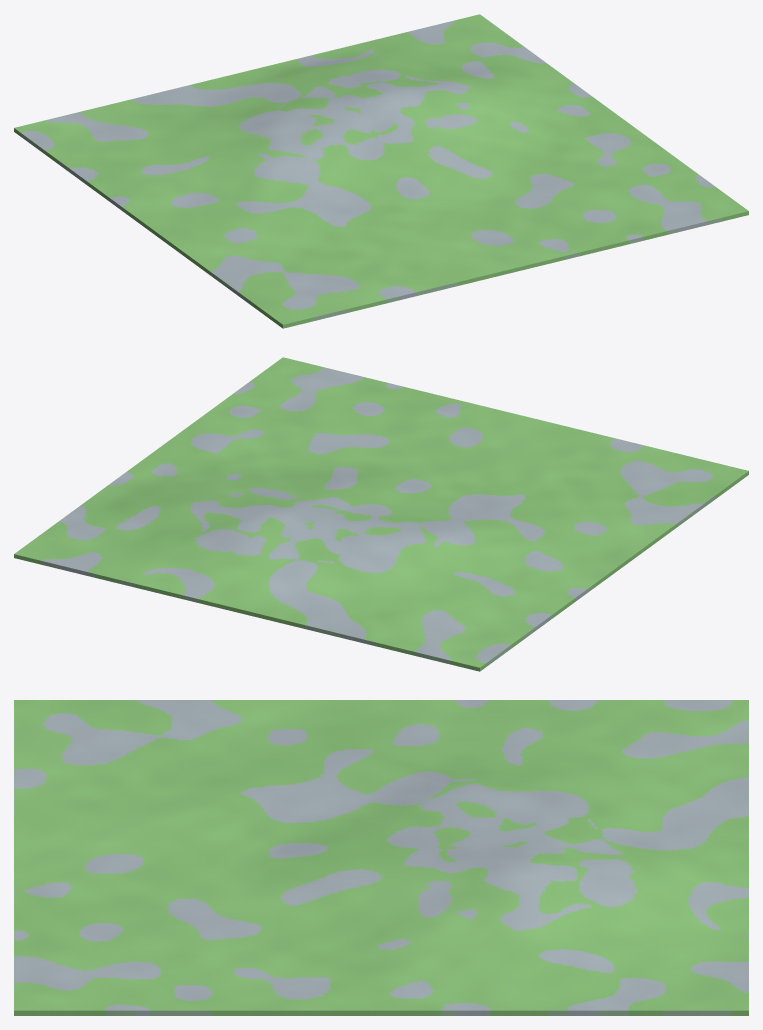
File: Grass_RockyGround_05.obj
The picture shows the model from 3 angles, top to bottom: view 1: azimuth 30°, elevation 25°; view 2: azimuth 150°, elevation 25°; view 3: azimuth 270°, elevation 25°; orthographic projection. The views are drawn at different scales.
Size of the model in its own units: 10 by 0.5377 by 10.
1 material, 1 textured.
